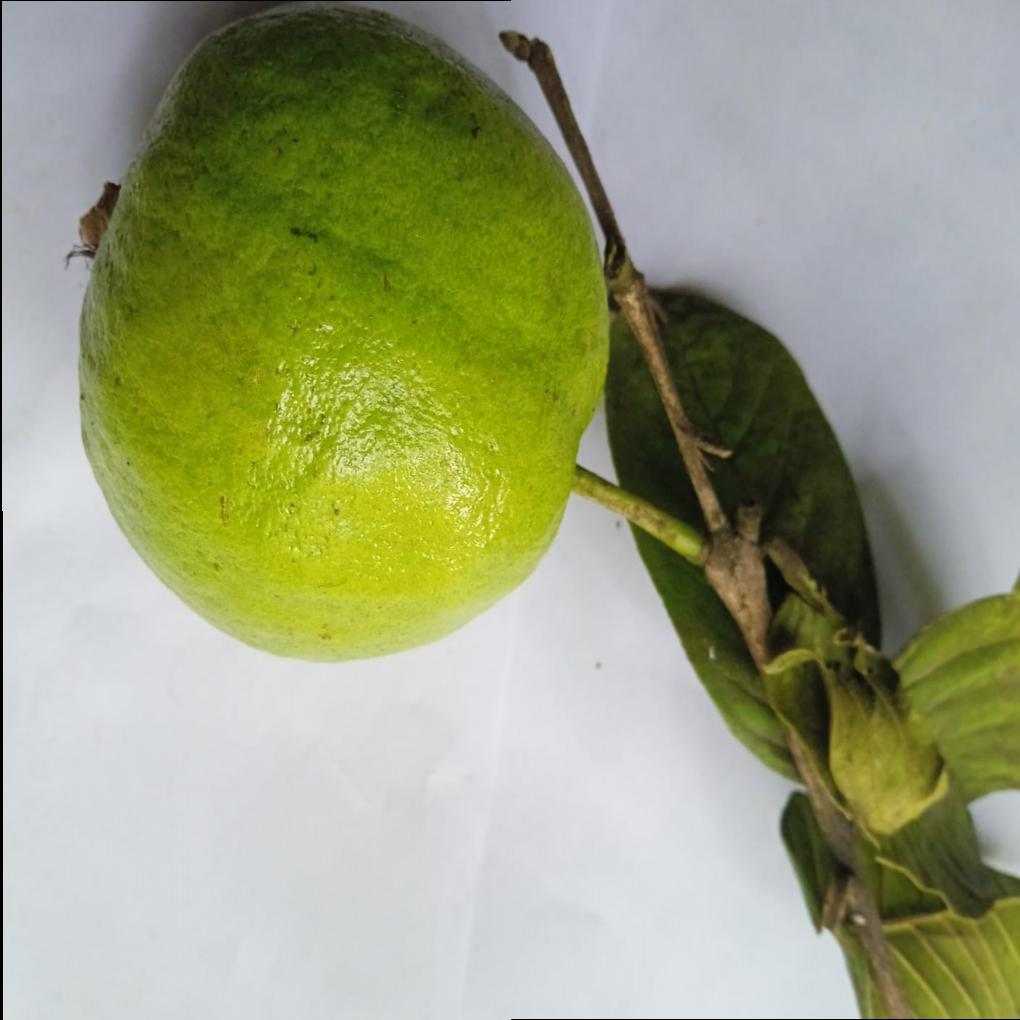FreshGuava: (77, 8, 614, 667)
